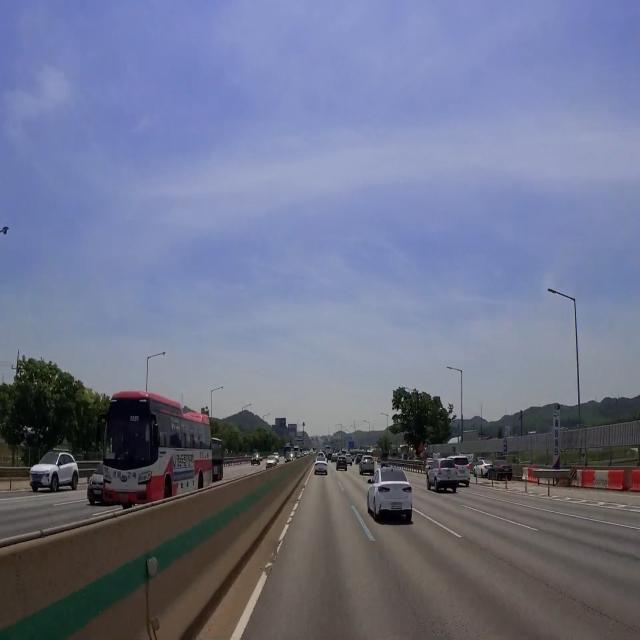car: (390, 499, 406, 518), (30, 473, 43, 490), (117, 492, 130, 505), (92, 488, 102, 499), (457, 471, 468, 480)
